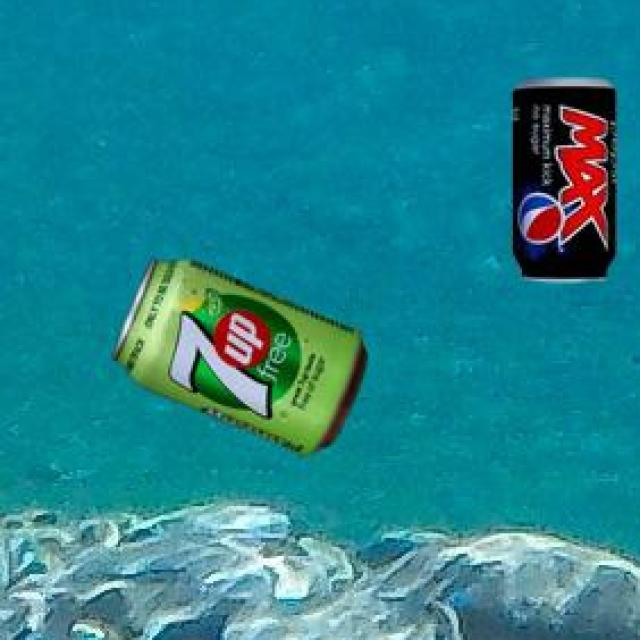logam: (110, 255, 364, 453), (510, 76, 612, 278)
